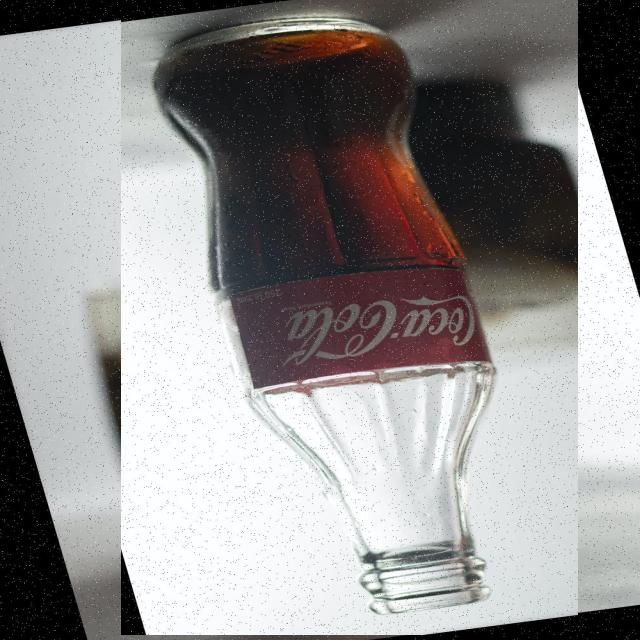coca-cola: (121, 0, 578, 635)
